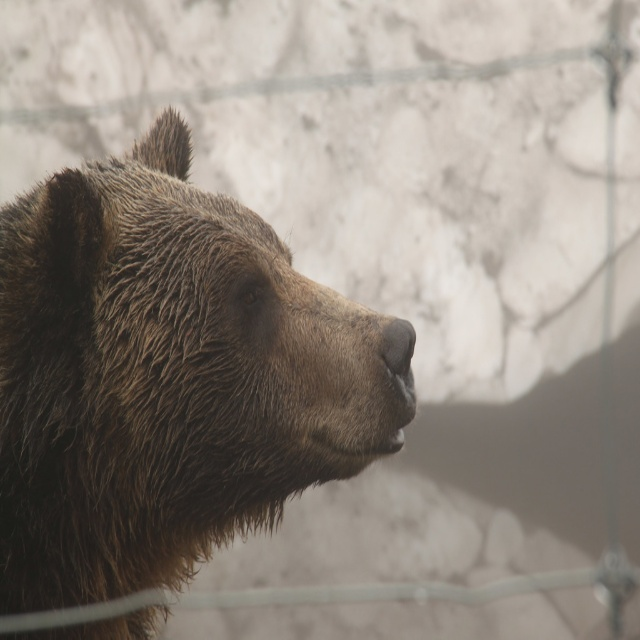Brown bear: (0, 102, 420, 640)
